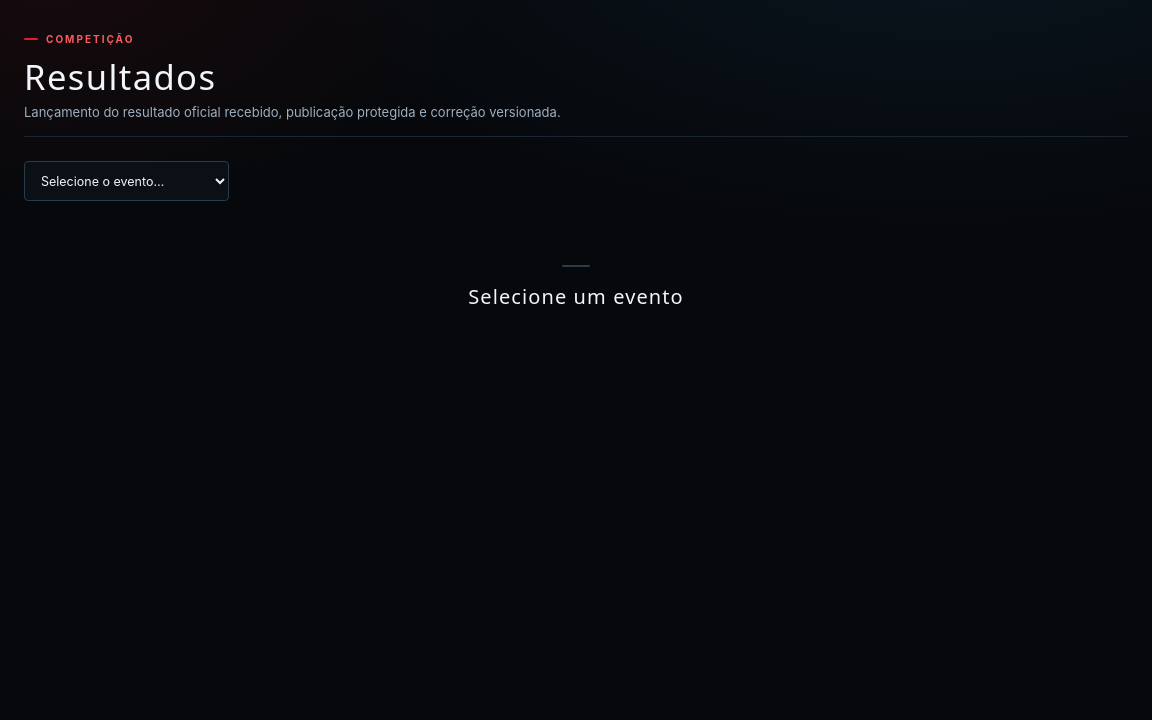
Test: lançar resultado oficial › sem inscrito na classe, diz isso — e não some em silêncio
Select "Muscle Contest Curitiba —" in the dropdown: (126, 181) [24, 161, 229, 201]
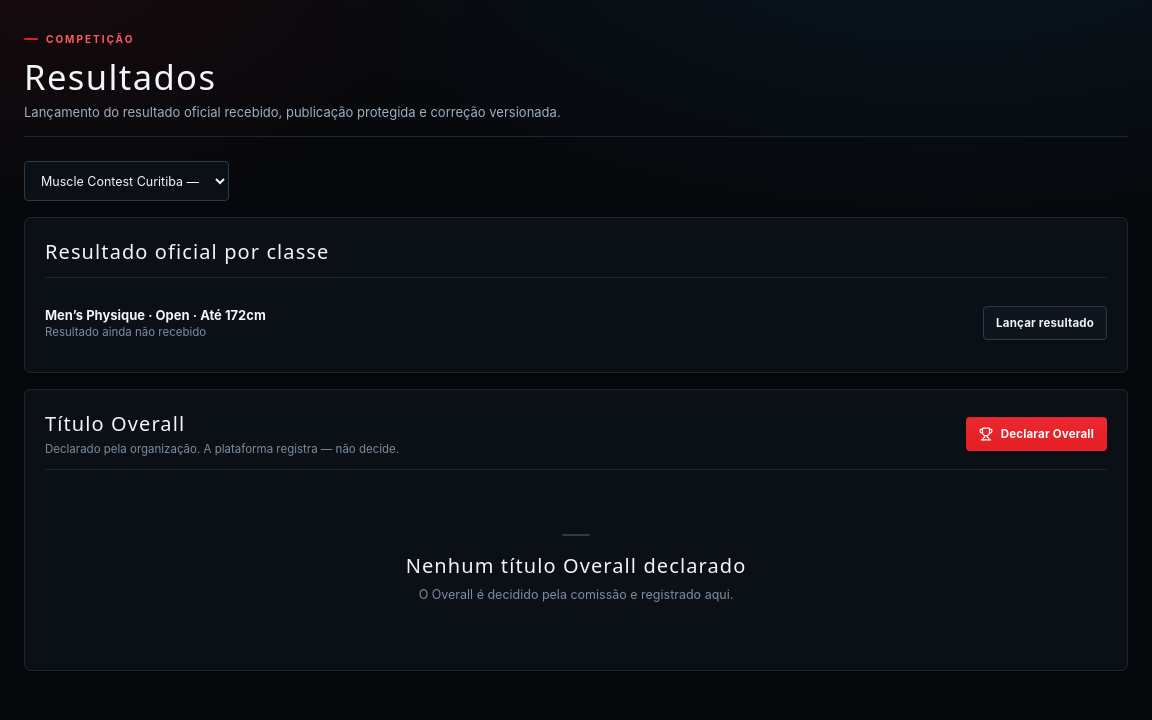
Click the button "Lançar resultado": (1045, 323) [983, 306, 1107, 340]
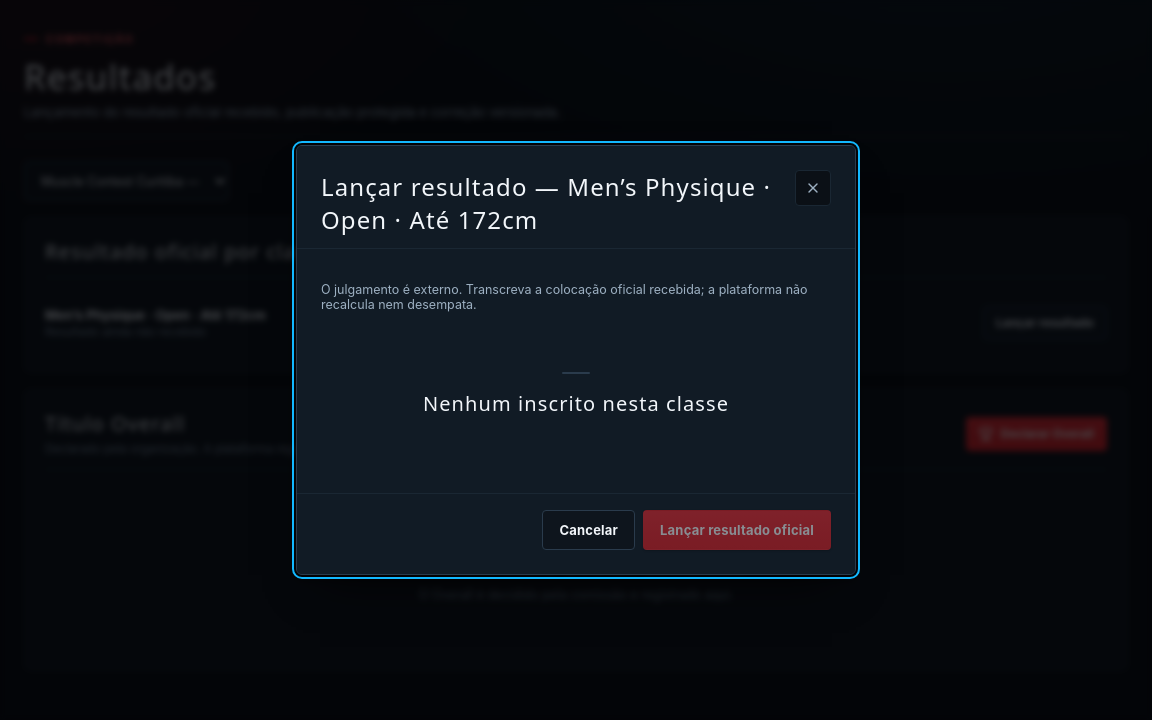
expect the heading "Nenhum inscrito nesta classe" is shown: met, box [423, 390, 729, 417]
